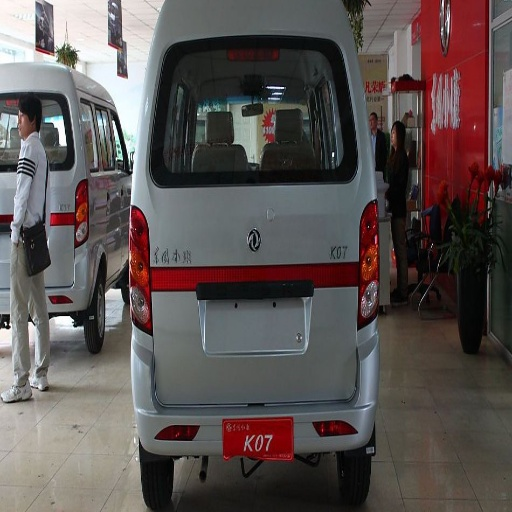back_bumper: (135, 328, 376, 459)
trunk: (139, 187, 365, 403)
